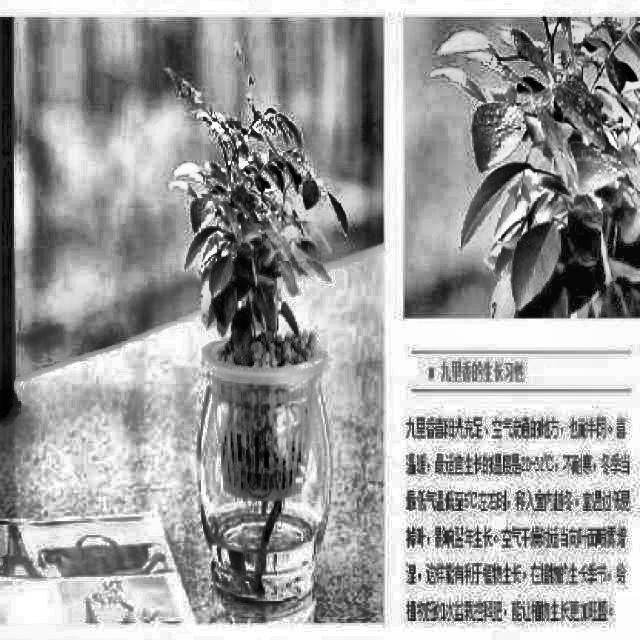plants: (183, 88, 329, 610)
